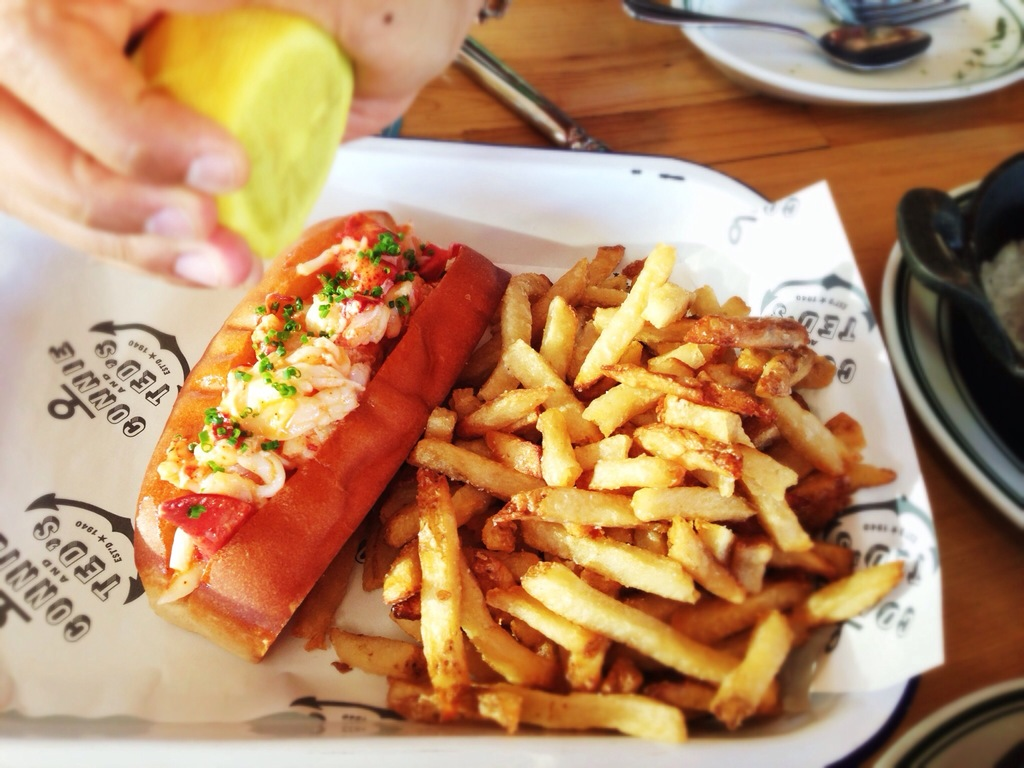French fries: (323, 231, 873, 753)
